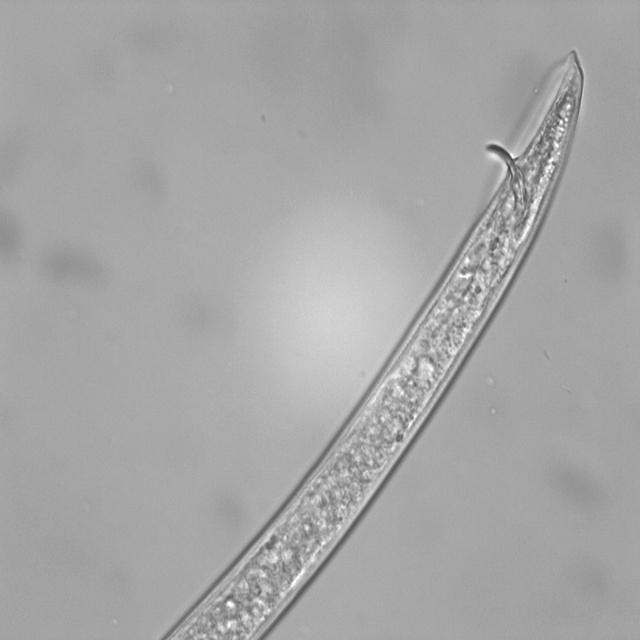Pratylenchus: (148, 42, 592, 640)
